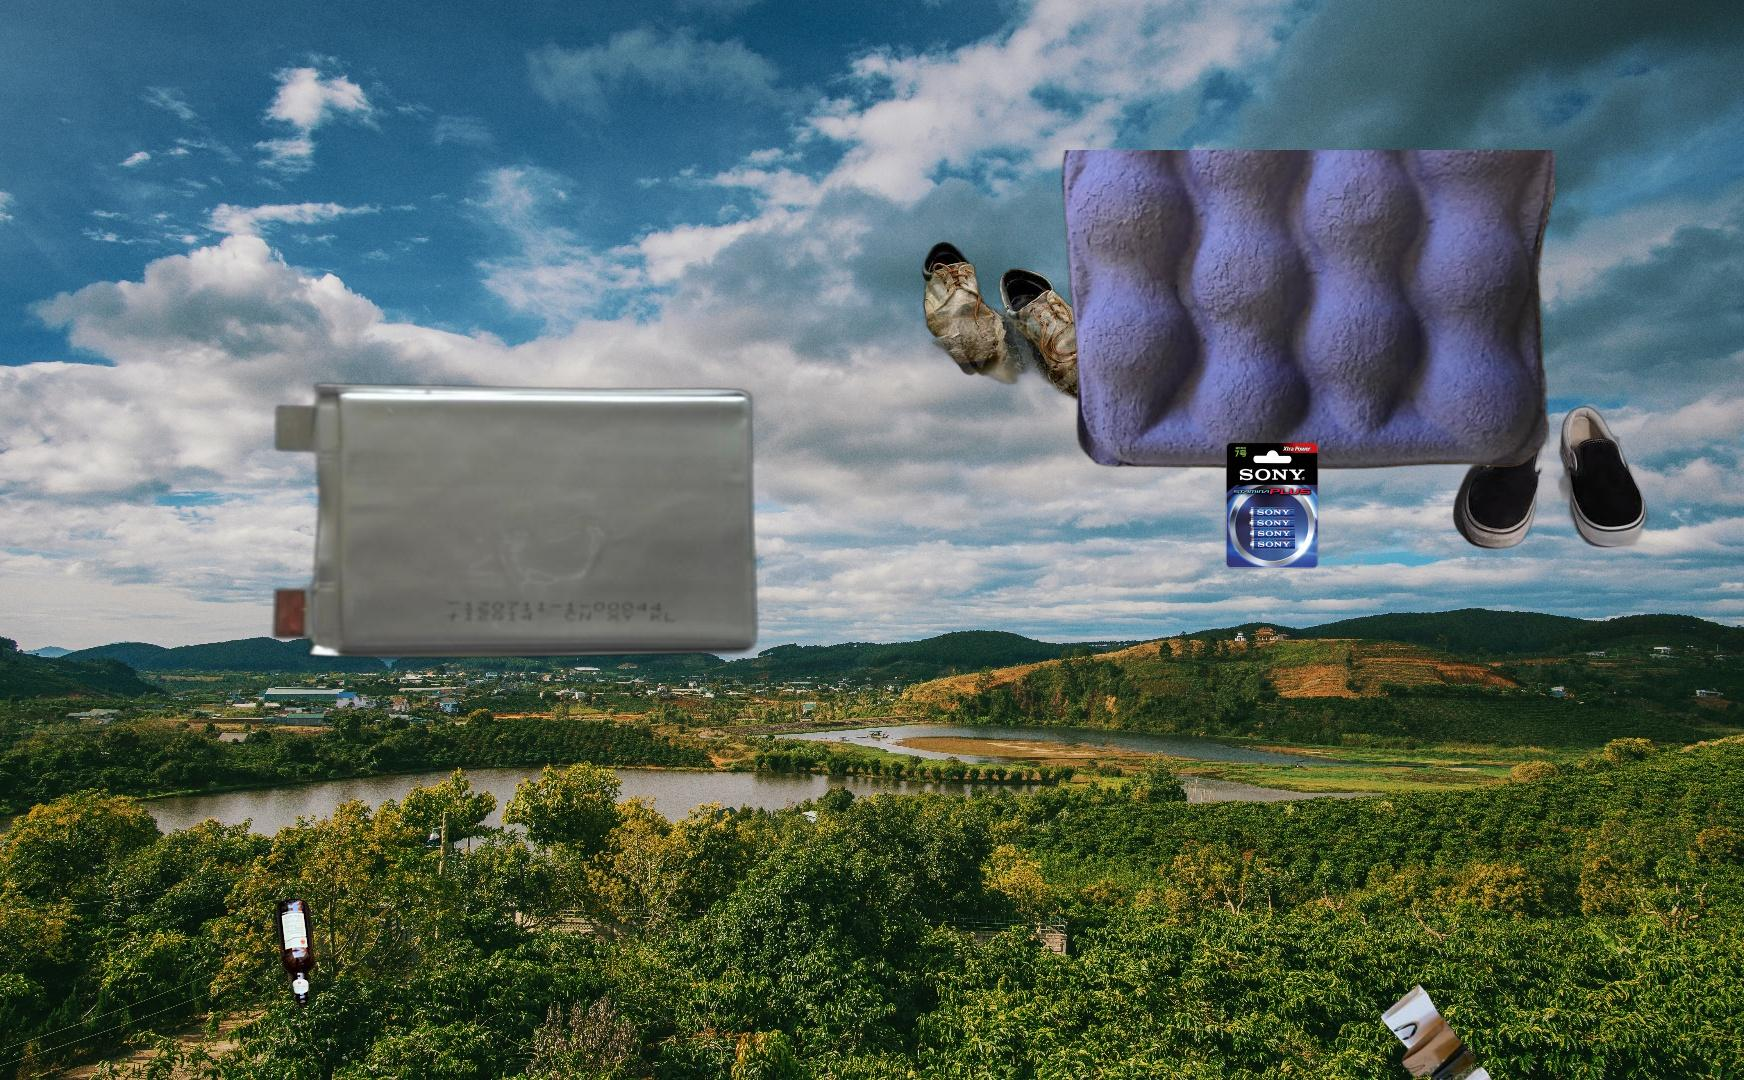battery: (266, 379, 764, 663), (1223, 440, 1321, 572)
glass: (271, 891, 319, 1012)
paper: (1057, 150, 1555, 474)
paper-bag: (1379, 980, 1525, 1080)
shoes: (919, 239, 1141, 423), (1451, 400, 1652, 552)
